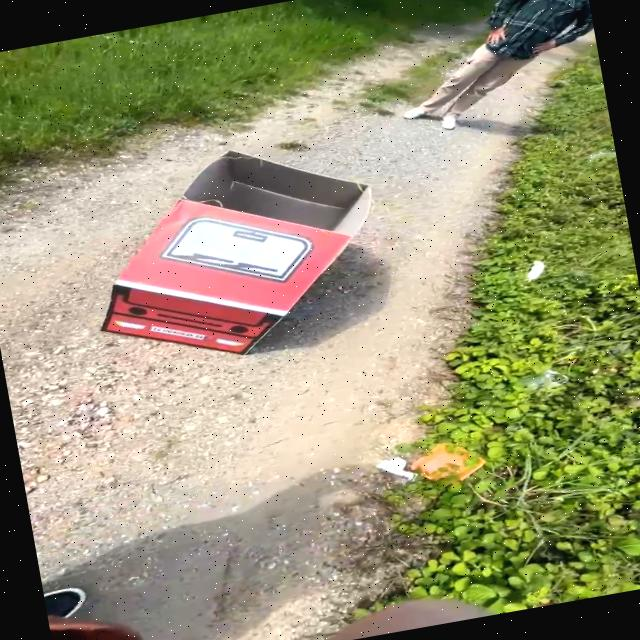red_car: (49, 105, 438, 408)
